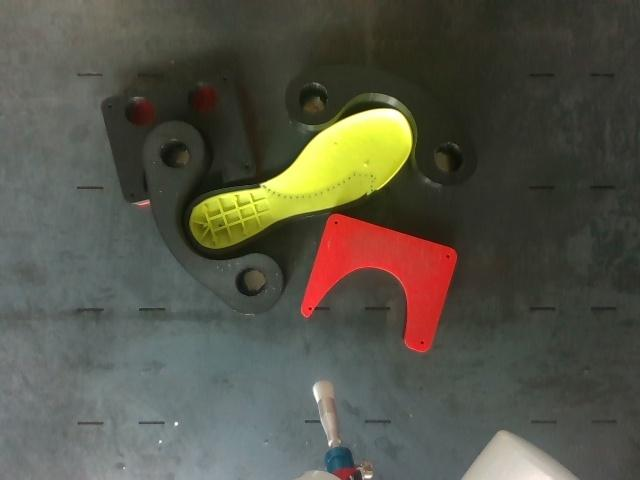shoes: (185, 109, 411, 254)
